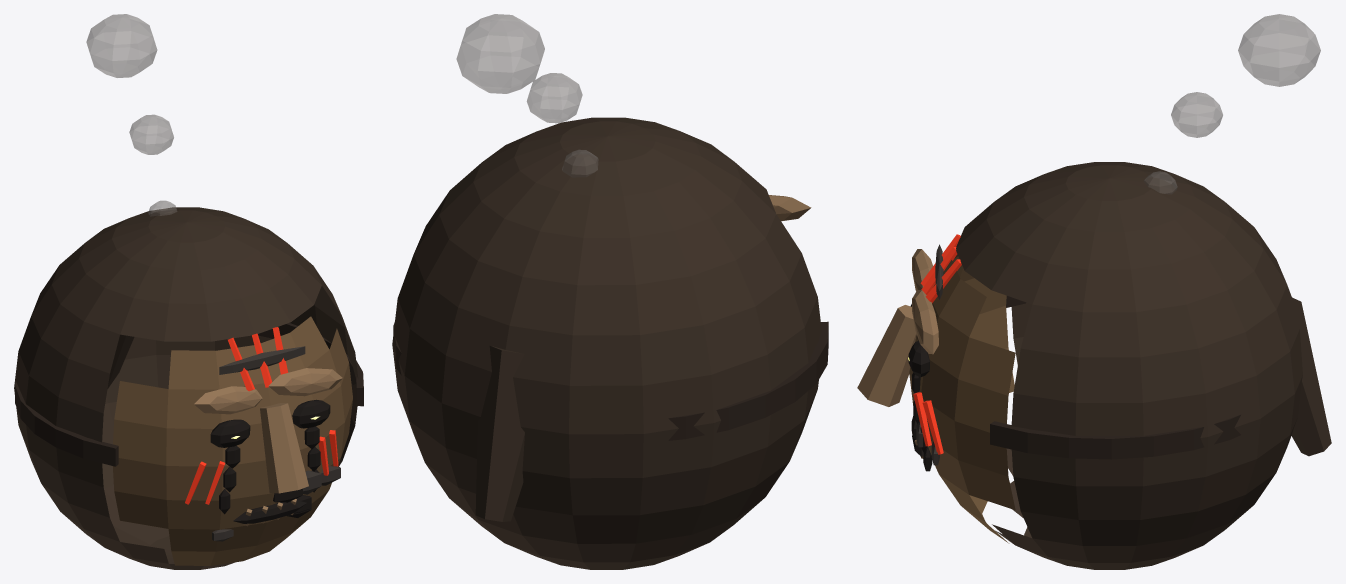
Rendered from sootmask_mask.glb.
The picture shows the model from 3 angles, left to right: view 1: azimuth 30°, elevation 25°; view 2: azimuth 150°, elevation 25°; view 3: azimuth 270°, elevation 25°; orthographic projection. The views are drawn at different scales.
Parts seen in each view (by area): view 1: sootmask_mask; view 2: sootmask_mask; view 3: sootmask_mask.
Boxes of the visible parts, <box> form: sootmask_mask: <box>14,14,363,569</box>; sootmask_mask: <box>392,14,828,569</box>; sootmask_mask: <box>857,14,1331,569</box>.
Bounding box in the file's own units: 1.22 × 1.85 × 1.47.
